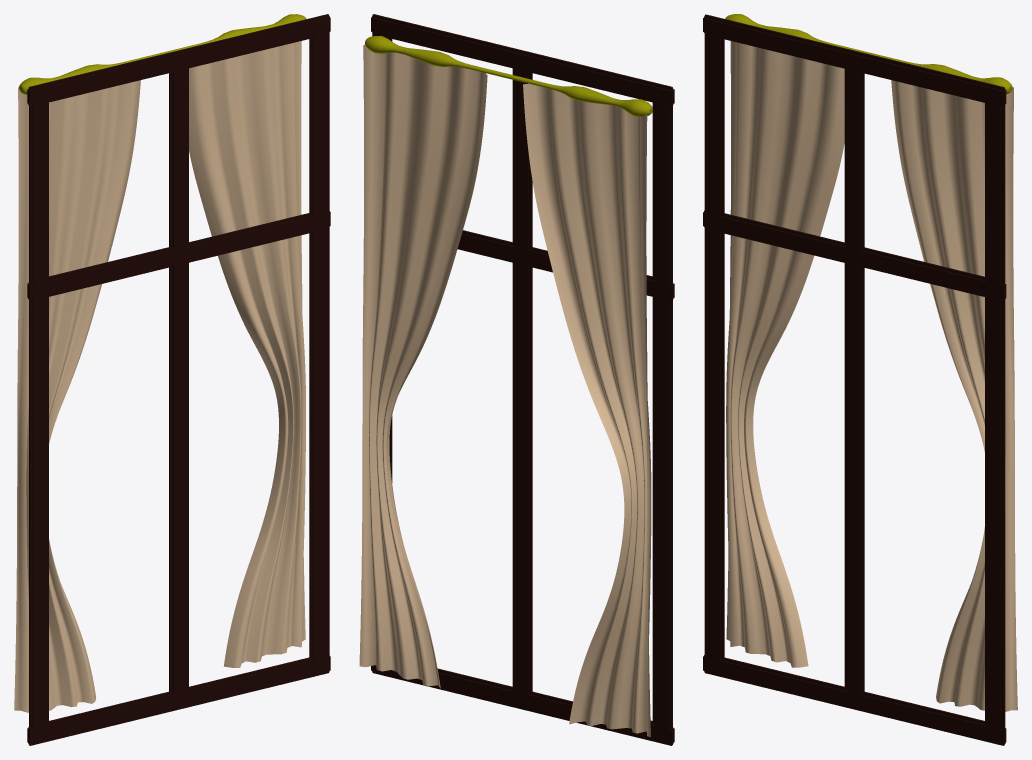
The model's file is Mesh_Window_Curtains.fbx.
3 views of the same model, side by side, from view 1: azimuth 30°, elevation 25°; view 2: azimuth 150°, elevation 25°; view 3: azimuth 330°, elevation 25° (orthographic).
Parts seen in each view (by area): view 1: Mesh_Window_Curtains; view 2: Mesh_Window_Curtains; view 3: Mesh_Window_Curtains.
Part boxes in pixels (left/top/right/bottom): Mesh_Window_Curtains: left=14, top=14, right=330, bottom=745; Mesh_Window_Curtains: left=359, top=14, right=674, bottom=745; Mesh_Window_Curtains: left=703, top=14, right=1017, bottom=745.
Bounding box in the file's own units: 395 × 826 × 49.2.
